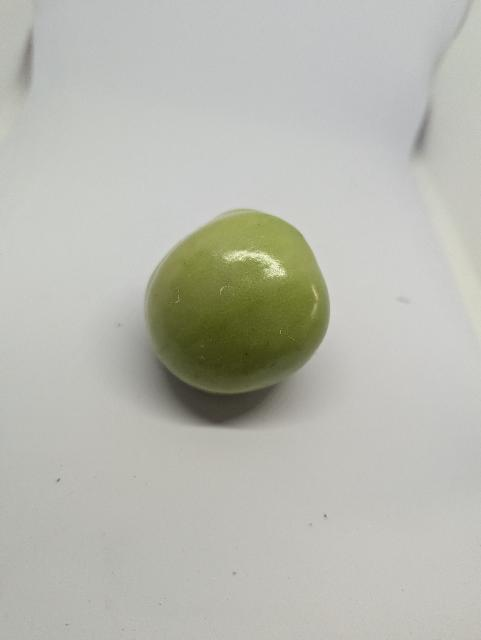green: (125, 202, 336, 405)
